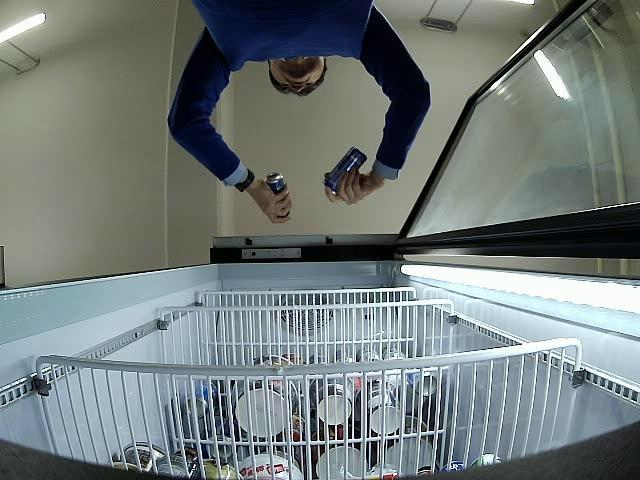16_hot6: (322, 147, 368, 191), (266, 172, 290, 217)
